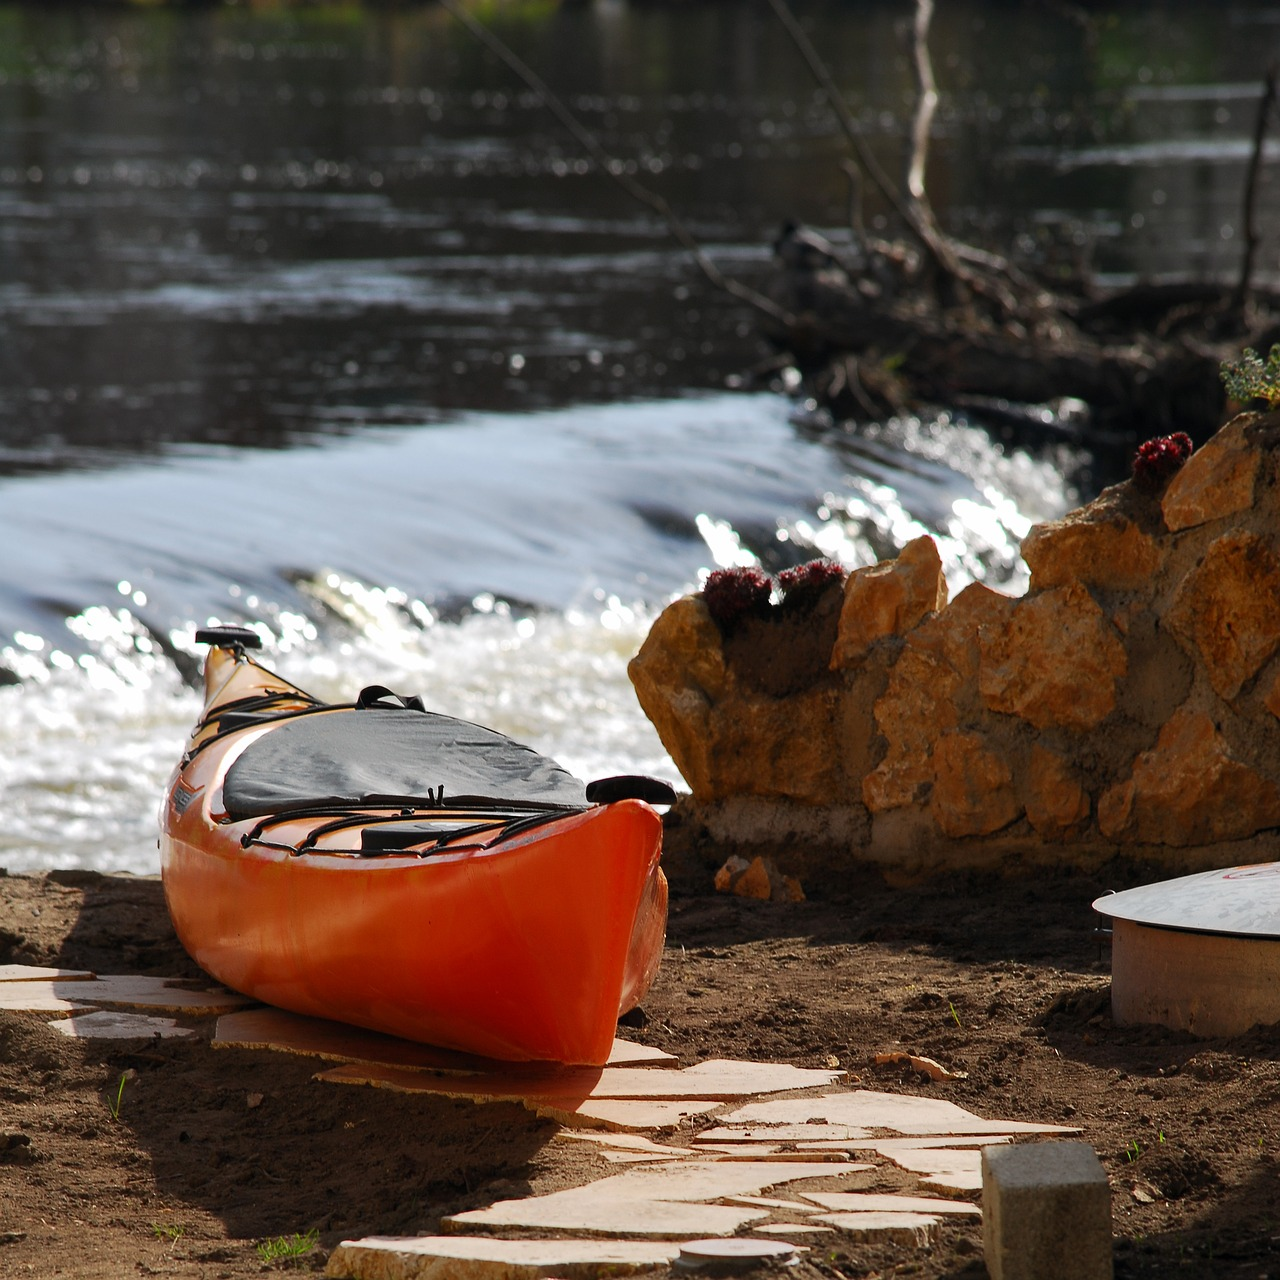kayak: (155, 611, 669, 1087)
